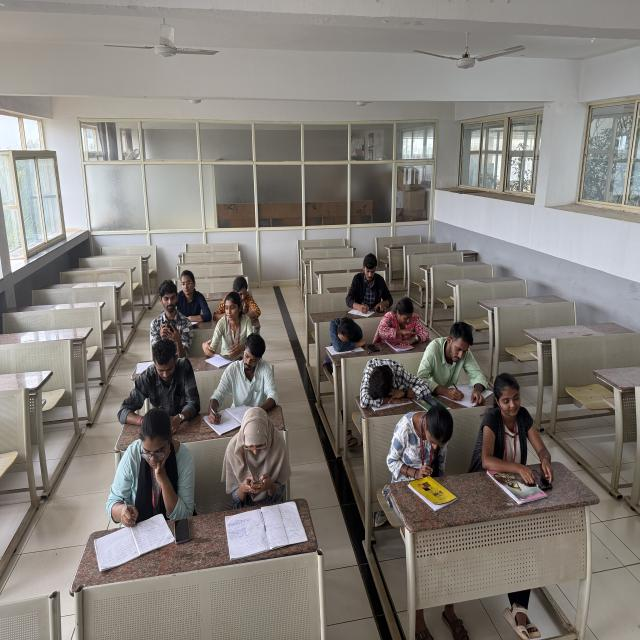Sleeping: (357, 352, 431, 404), (322, 312, 367, 350)
Using Phone: (221, 408, 294, 507), (383, 398, 456, 488), (147, 282, 195, 352)
Writing: (105, 413, 194, 542), (205, 329, 281, 426), (420, 319, 492, 405), (345, 254, 392, 318)
